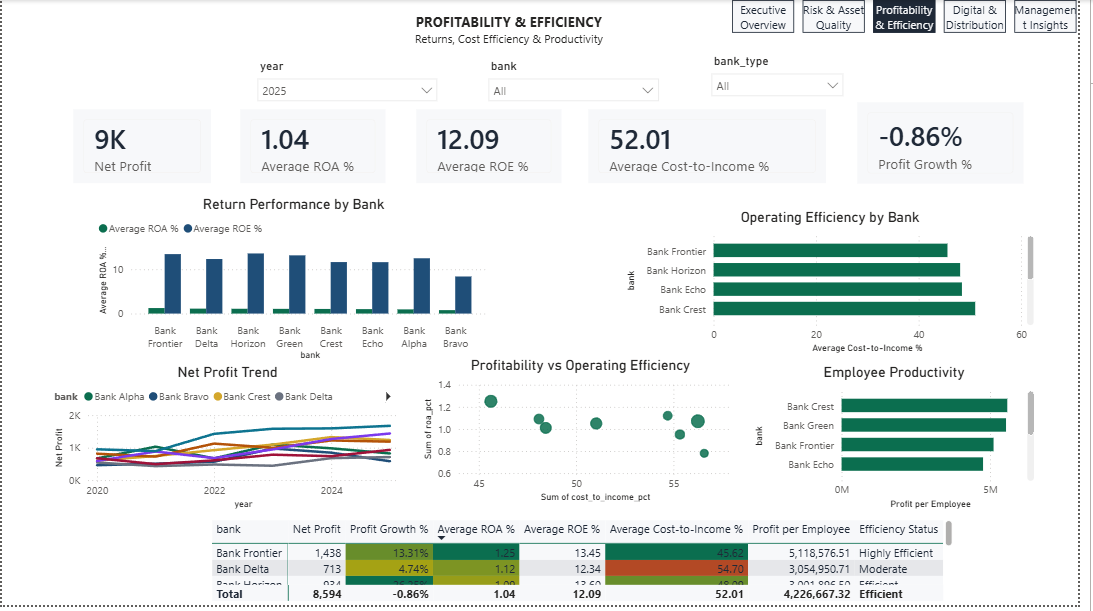

The page's visual inventory and layout, read from the dashboard file:
{"tool":"powerbi","page":{"name":"Profitability & Efficiency","canvas":[1280,720],"ordinal":2},"visuals":[{"type":"textbox","box":[443.9,10.7,318.9,57.1],"z":0},{"type":"slicer","fields":{"Values":["bank_financials.year"]},"box":[294,65.5,234.4,97.6],"z":1000},{"type":"slicer","fields":{"Values":["bank_financials.bank"]},"box":[568.9,65.5,222.5,60.7],"z":2000},{"type":"slicer","fields":{"Values":["bank_financials.bank_type"]},"box":[834.2,59.5,177.3,79.7],"z":3000},{"type":"cardVisual","title":"Capital Adequacy","fields":{"Data":["bank_financials.Net Profit"]},"box":[79.7,125,174.9,98.8],"z":4000},{"type":"cardVisual","title":"Loan to Deposit","fields":{"Data":["bank_financials.Average ROA %"]},"box":[278.5,125,183.3,98.8],"z":5000},{"type":"cardVisual","fields":{"Data":["bank_financials.Average ROE %"]},"box":[487.9,125,183.3,98.8],"z":6000},{"type":"cardVisual","fields":{"Data":["bank_financials.Average Cost-to-Income %"]},"box":[692.6,125,294,98.8],"z":7000},{"type":"cardVisual","fields":{"Data":["bank_financials.Profit Growth %"]},"box":[1012.8,116.6,208.3,107.1],"z":8000},{"type":"clusteredColumnChart","title":"Return Performance by Bank","fields":{"Category":["bank_financials.bank"],"Y":["bank_financials.Average ROA %","bank_financials.Average ROE %"]},"box":[109.5,233.3,474.8,199.9],"z":9000},{"type":"clusteredBarChart","title":"Operating Efficiency by Bank","fields":{"Category":["bank_financials.bank"],"Y":["bank_financials.Average Cost-to-Income %"]},"box":[737.9,248.7,495.1,176.1],"z":10000},{"type":"lineChart","title":"Net Profit Trend","fields":{"Category":["bank_financials.year"],"Y":["bank_financials.Net Profit"],"Series":["bank_financials.bank"]},"box":[57.1,433.2,422.5,177.3],"z":11000},{"type":"scatterChart","title":"Profitability vs Operating Efficiency","fields":{"X":["Sum(bank_financials.cost_to_income_pct)"],"Y":["Sum(bank_financials.roa_pct)"],"Size":["Sum(bank_financials.net_profit_crore)"],"Category":["bank_financials.bank"]},"box":[496.3,424.9,384.4,177.3],"z":12000},{"type":"clusteredBarChart","title":"Employee Productivity","fields":{"Category":["bank_financials.bank"],"Y":["bank_financials.Profit per Employee"]},"box":[890,432.9,343,177],"z":13000},{"type":"pivotTable","fields":{"Rows":["bank_financials.bank"],"Values":["bank_financials.Net Profit","bank_financials.Profit Growth %","bank_financials.Average ROA %","bank_financials.Average ROE %","bank_financials.Average Cost-to-Income %","bank_financials.Profit per Employee","bank_financials.Efficiency Status"]},"box":[245.2,614.1,891.4,105.9],"z":14000},{"type":"pageNavigator","box":[868.8,0,411.8,39.3],"z":14001}]}

Visuals, with their boxes in screenshot pixels (x1, y1, x2, y2), scaled from the page's 1280x720 canvas onto the 1093x611 screenshot:
textbox: region(379, 9, 651, 58)
slicer - bank_financials.year: region(251, 56, 451, 138)
slicer - bank_financials.bank: region(486, 56, 676, 107)
slicer - bank_financials.bank_type: region(712, 50, 864, 118)
"Capital Adequacy" cardVisual: region(68, 106, 217, 190)
"Loan to Deposit" cardVisual: region(238, 106, 394, 190)
cardVisual - bank_financials.Average ROE %: region(417, 106, 573, 190)
cardVisual - bank_financials.Average Cost-to-Income %: region(591, 106, 842, 190)
cardVisual - bank_financials.Profit Growth %: region(865, 99, 1043, 190)
"Return Performance by Bank" clusteredColumnChart: region(94, 198, 499, 368)
"Operating Efficiency by Bank" clusteredBarChart: region(630, 211, 1053, 360)
"Net Profit Trend" lineChart: region(49, 368, 410, 518)
"Profitability vs Operating Efficiency" scatterChart: region(424, 361, 752, 511)
"Employee Productivity" clusteredBarChart: region(760, 367, 1053, 518)
pivotTable - bank_financials.bank x bank_financials.Net Profit: region(209, 521, 971, 610)
pageNavigator: region(742, 0, 1092, 33)
